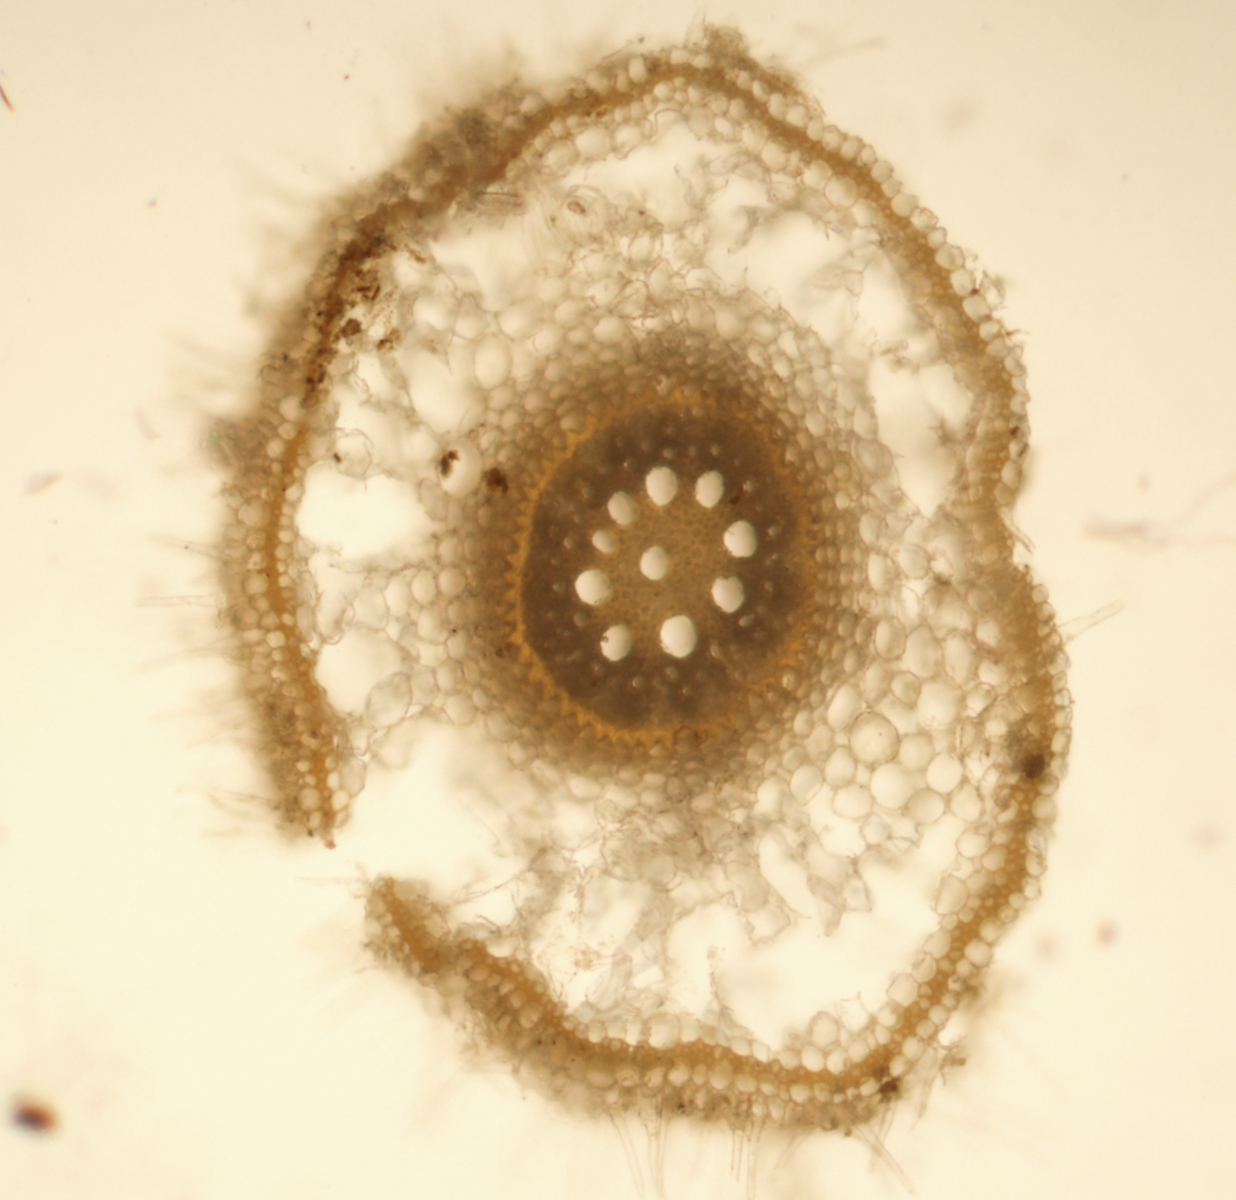lm: (659, 614, 697, 657), (574, 569, 615, 606), (723, 520, 758, 557), (644, 466, 678, 506), (600, 623, 633, 661), (711, 576, 745, 613), (694, 470, 725, 508), (607, 491, 640, 525), (640, 545, 672, 580), (592, 529, 619, 554)
